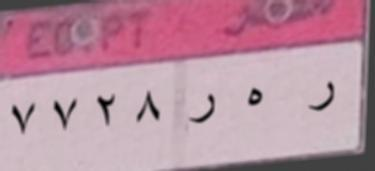2: (89, 87, 123, 133)
7: (48, 89, 86, 136), (7, 96, 43, 138)
8: (131, 86, 166, 126)
haa: (242, 78, 269, 117)
raa: (186, 85, 227, 132), (302, 77, 341, 121)
